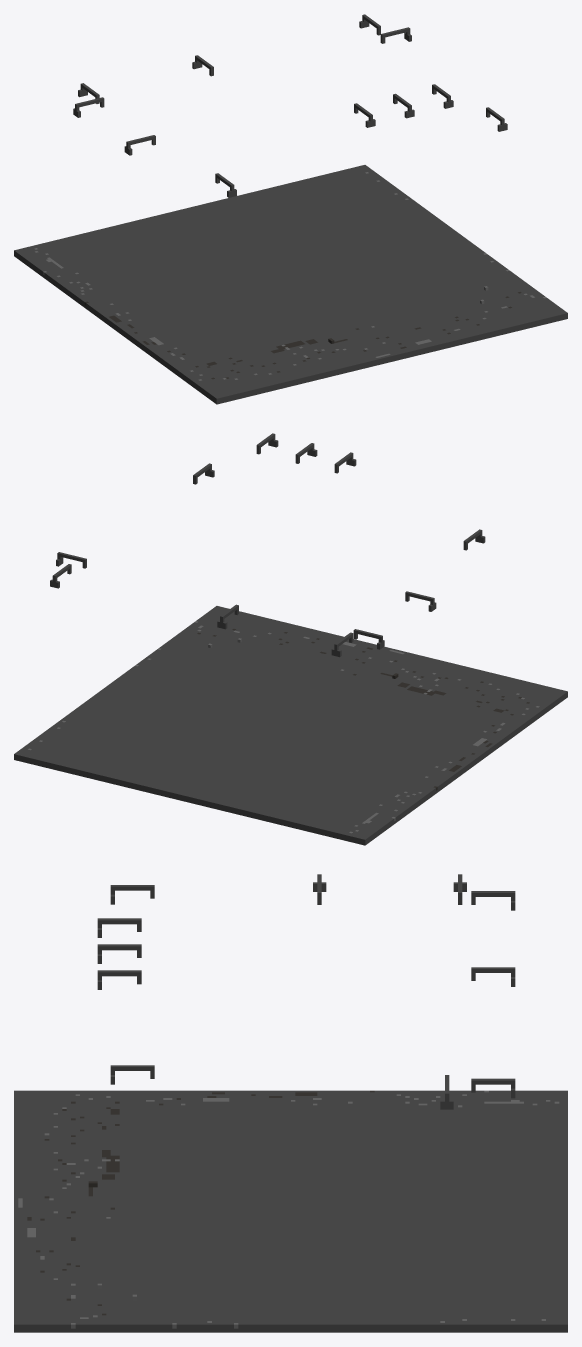
The model's file is platform_dark_metal.obj.
3 views of the same model, one above another, from view 1: azimuth 30°, elevation 25°; view 2: azimuth 150°, elevation 25°; view 3: azimuth 270°, elevation 25° (orthographic). The views are drawn at different scales.
Visible parts, largest first — view 1: platform_dark_metal; view 2: platform_dark_metal; view 3: platform_dark_metal.
Part boxes in pixels (x1=…): platform_dark_metal: x1=14, y1=14, x2=567, y2=404; platform_dark_metal: x1=14, y1=433, x2=567, y2=845; platform_dark_metal: x1=14, y1=874, x2=567, y2=1332.
Size of the model in its own units: 126 by 76 by 126.
1 material, 1 textured.
